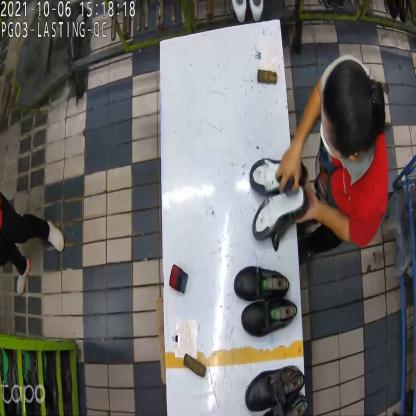shoes: (232, 250, 298, 337), (251, 156, 307, 248), (245, 364, 308, 416)
stamp: (280, 157, 306, 195), (169, 263, 191, 296)
